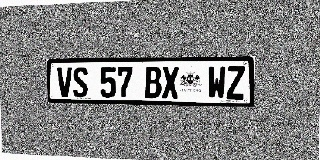5: (100, 67, 116, 98)
7: (117, 67, 133, 98)
B: (145, 66, 161, 98)
S: (72, 67, 88, 98)
V: (57, 67, 72, 97)
W: (208, 66, 226, 99)
X: (162, 66, 179, 99)
Z: (226, 66, 245, 99)
